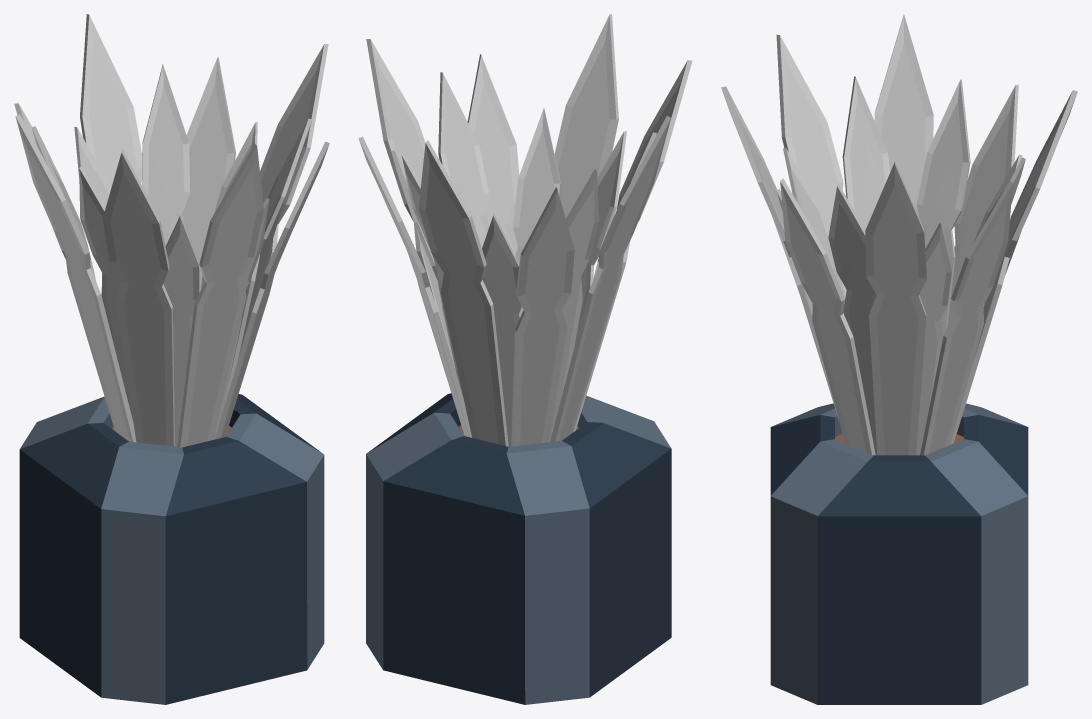
File: Flower-4.fbx
The picture shows the model from 3 angles, left to right: view 1: azimuth 30°, elevation 25°; view 2: azimuth 150°, elevation 25°; view 3: azimuth 270°, elevation 25°; orthographic projection.
Parts seen in each view (by area): view 1: Flower-4; view 2: Flower-4; view 3: Flower-4.
Part boxes in pixels (bbox=[...]): Flower-4: bbox=[14, 14, 329, 704]; Flower-4: bbox=[358, 14, 692, 704]; Flower-4: bbox=[721, 14, 1077, 704].
Size of the model in its own units: 1.38 by 2.4 by 1.38.
